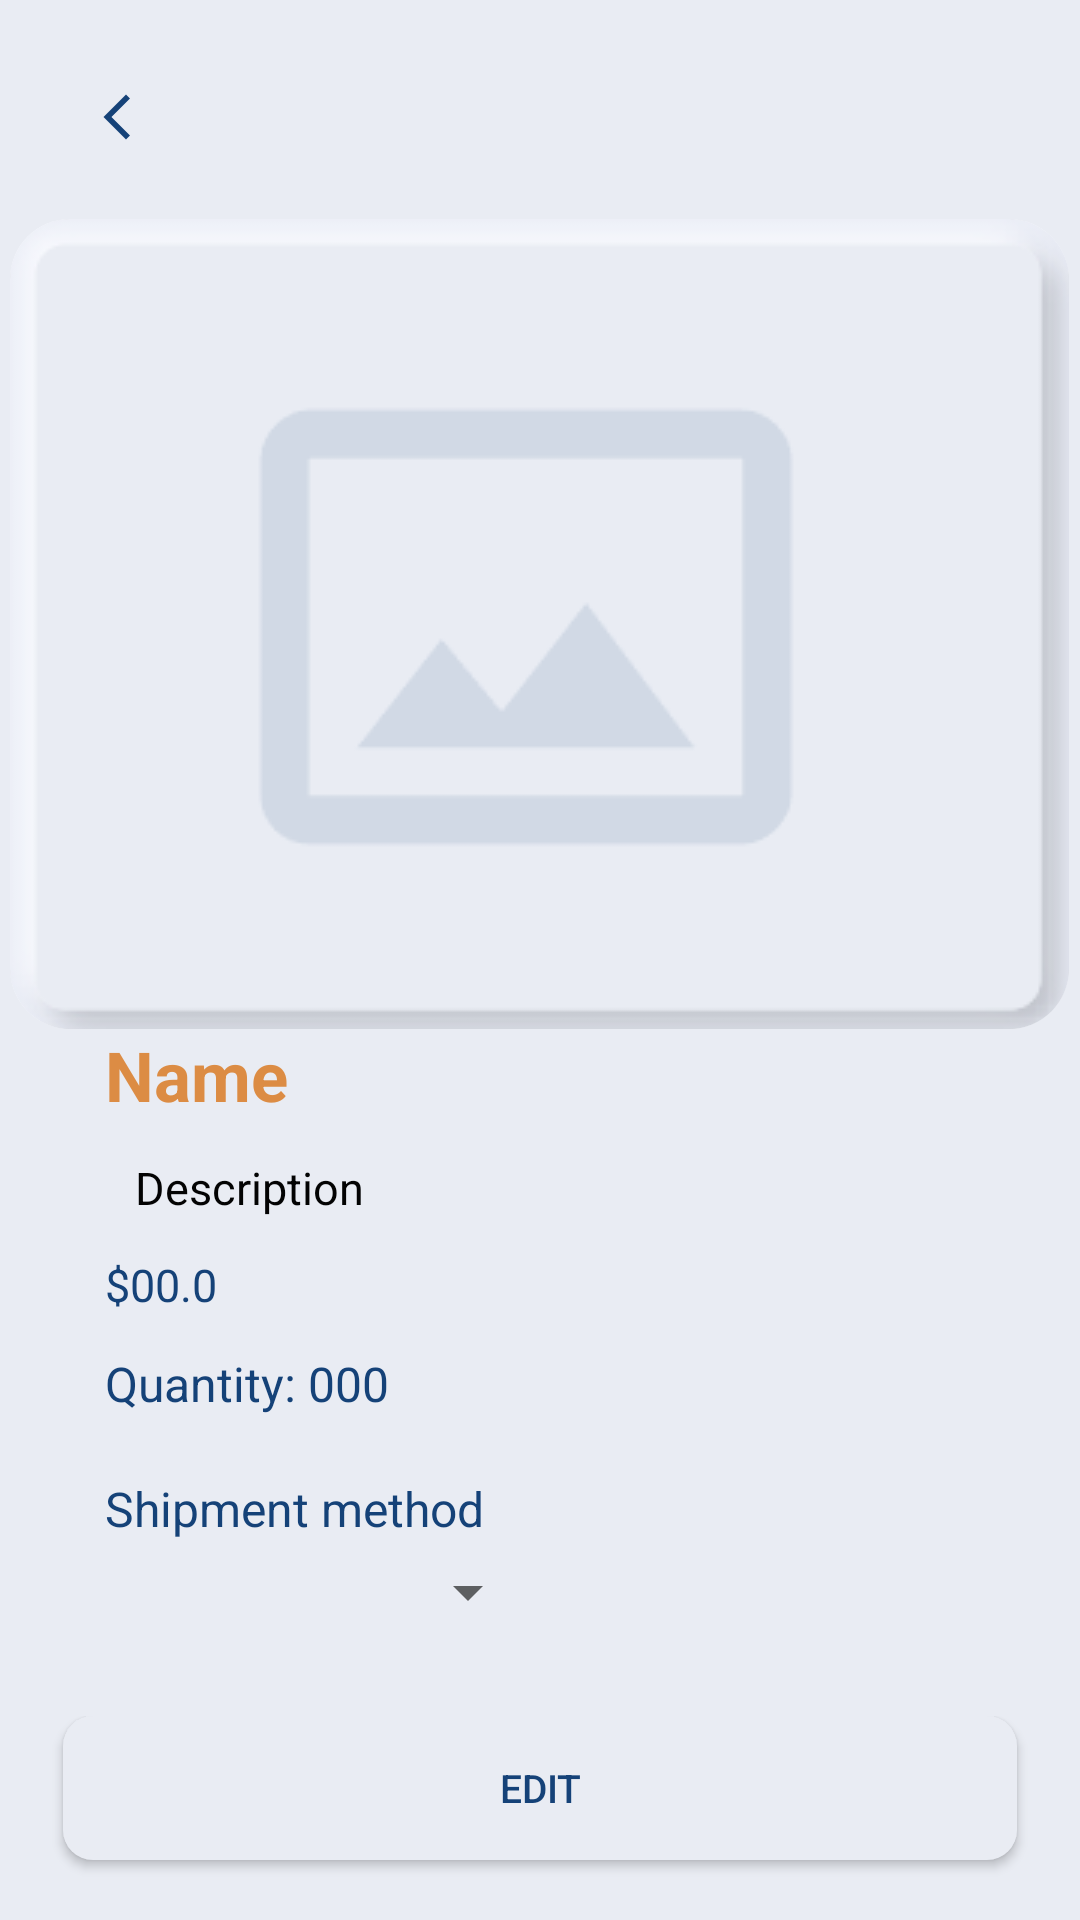

Where to tap for icons on this 1080×1920 app screen, as (x=x, y=y):
arrow back: (x=116, y=117)
